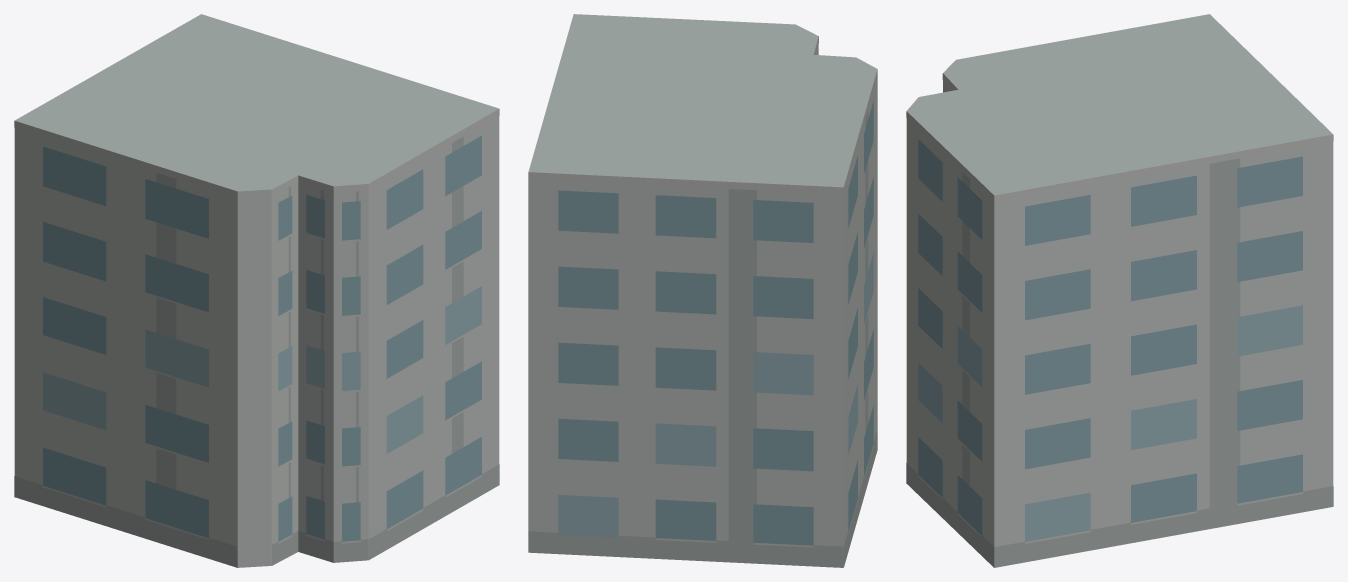
The model's file is survey-upis-32700123.glb.
3 views of the same model, side by side, from view 1: azimuth 30°, elevation 25°; view 2: azimuth 150°, elevation 25°; view 3: azimuth 270°, elevation 25° (orthographic). The views are drawn at different scales.
Parts seen in each view (by area): view 1: survey-upis-32700123.tmp; view 2: survey-upis-32700123.tmp; view 3: survey-upis-32700123.tmp.
Boxes of the visible parts, x1=… form: survey-upis-32700123.tmp: x1=14, y1=14, x2=499, y2=567; survey-upis-32700123.tmp: x1=528, y1=14, x2=877, y2=567; survey-upis-32700123.tmp: x1=906, y1=14, x2=1333, y2=567.
Size of the model in its own units: 13.55 by 12.95 by 13.47.
